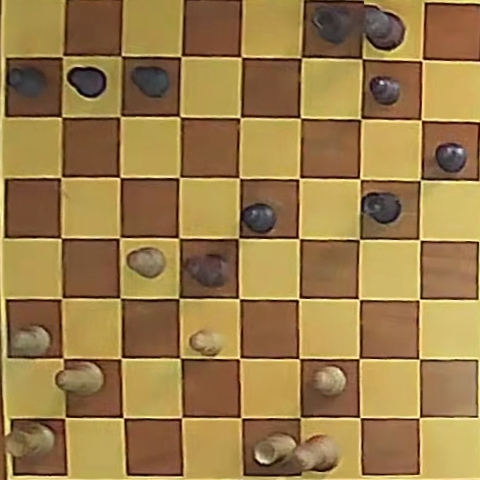black-king: (364, 7, 405, 50), (312, 6, 353, 44)
black-pawn: (67, 66, 107, 99), (8, 66, 48, 98), (130, 66, 170, 98), (241, 203, 276, 233), (435, 143, 467, 173), (369, 76, 400, 105)
black-rook: (312, 6, 353, 44), (362, 192, 401, 224)
white-bishop: (56, 362, 103, 395)
white-king: (292, 435, 339, 472), (254, 432, 297, 465)
white-pawn: (11, 325, 51, 356), (127, 247, 166, 278), (312, 366, 346, 396), (190, 329, 224, 356)
white-rook: (6, 422, 56, 459), (254, 432, 297, 465)
